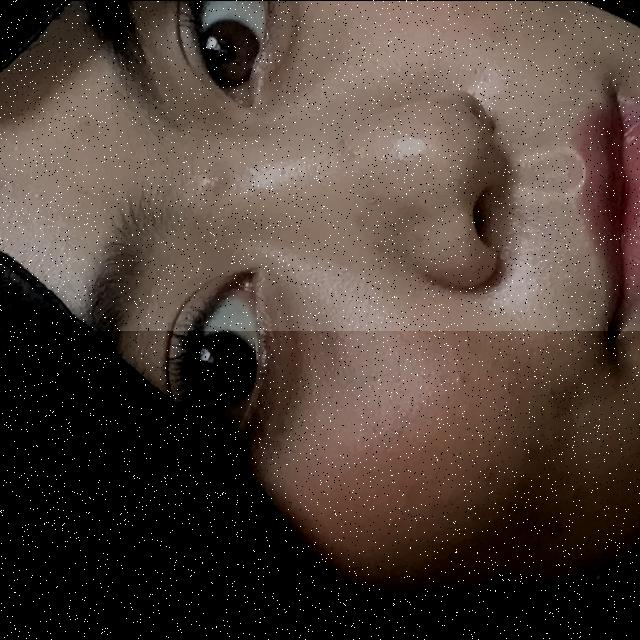mendengar: (26, 330, 640, 640)
